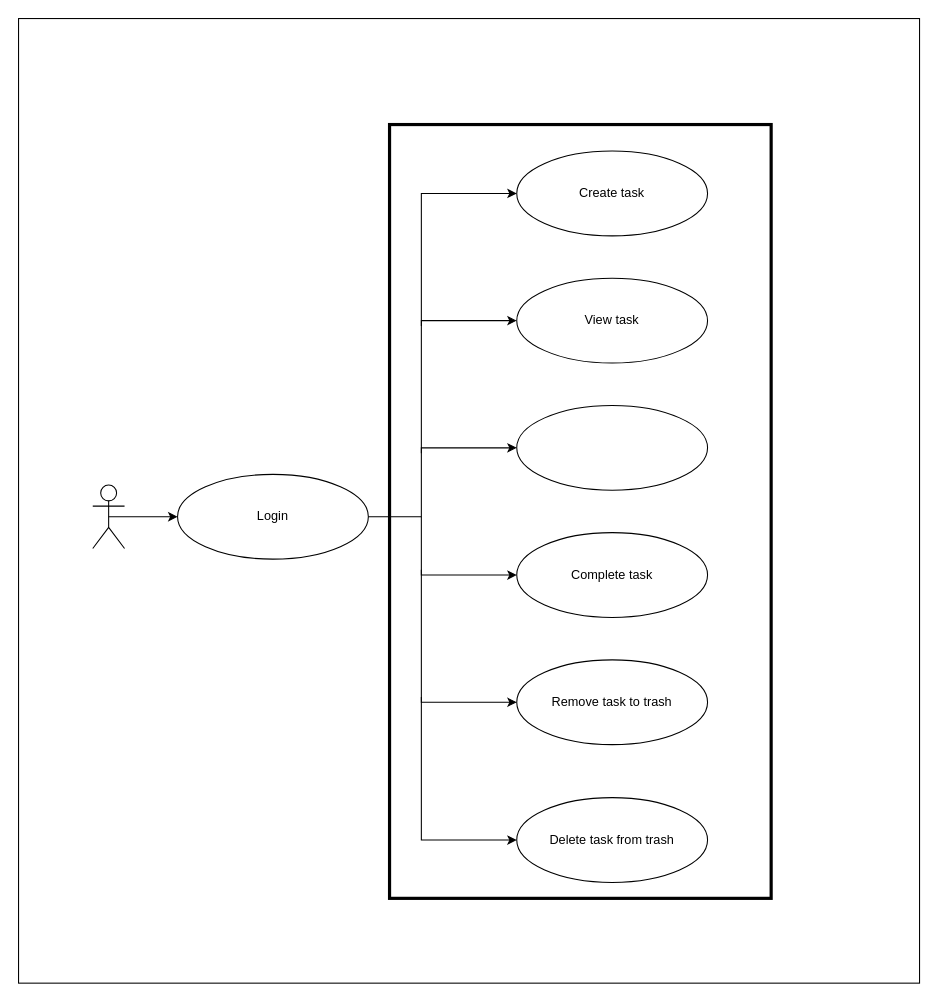
Image size: 938x1002. Some labels were removed from this diagram. Each missing label, with the centre of its shape:
Edit task: pixel 612 447
User: pixel 108 516
